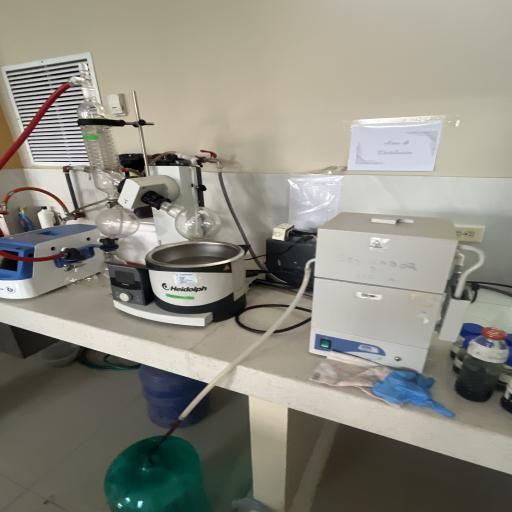Sistema_Rotaevaporacion: (0, 65, 270, 342)
